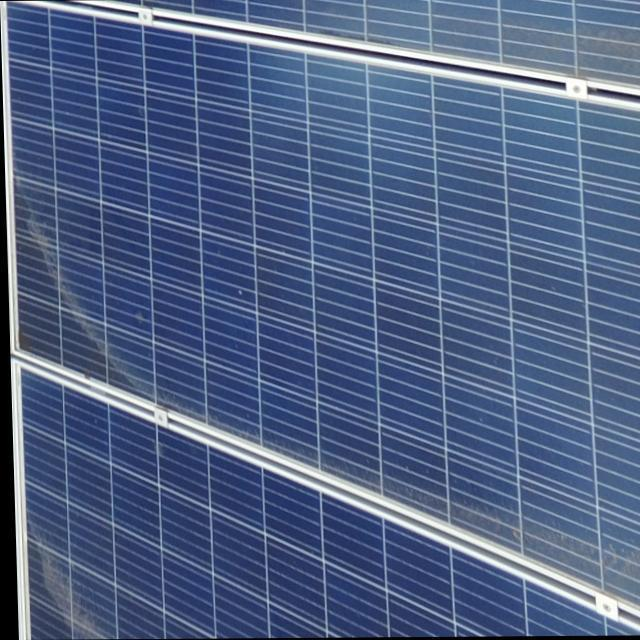Surface Contaminant: (13, 167, 161, 405), (384, 472, 640, 604), (428, 13, 640, 85), (29, 518, 104, 640)
